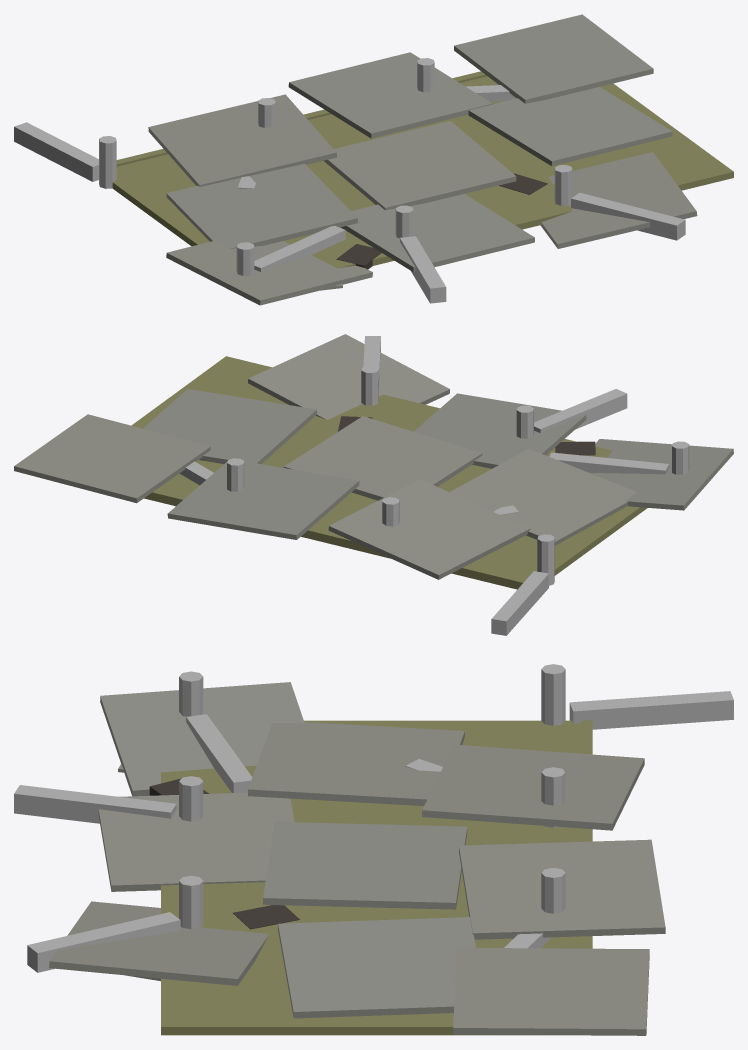
Rendered from SM_MarquesinaBus_v1_Chapas_e3_Brecha_LOD0.fbx.
3 renders of one model, top to bottom at view 1: azimuth 30°, elevation 25°; view 2: azimuth 150°, elevation 25°; view 3: azimuth 270°, elevation 25°, orthographic. The views are drawn at different scales.
Visible parts, largest first — view 1: SM_marquesina_bus_v7_LOD0; view 2: SM_marquesina_bus_v7_LOD0; view 3: SM_marquesina_bus_v7_LOD0.
Part boxes in pixels (box(x1,y1,x2,y2)): SM_marquesina_bus_v7_LOD0: box(14, 14, 733, 305); SM_marquesina_bus_v7_LOD0: box(14, 334, 733, 635); SM_marquesina_bus_v7_LOD0: box(14, 664, 733, 1035).
Size of the model in its own units: 13.87 by 1.16 by 11.92.
